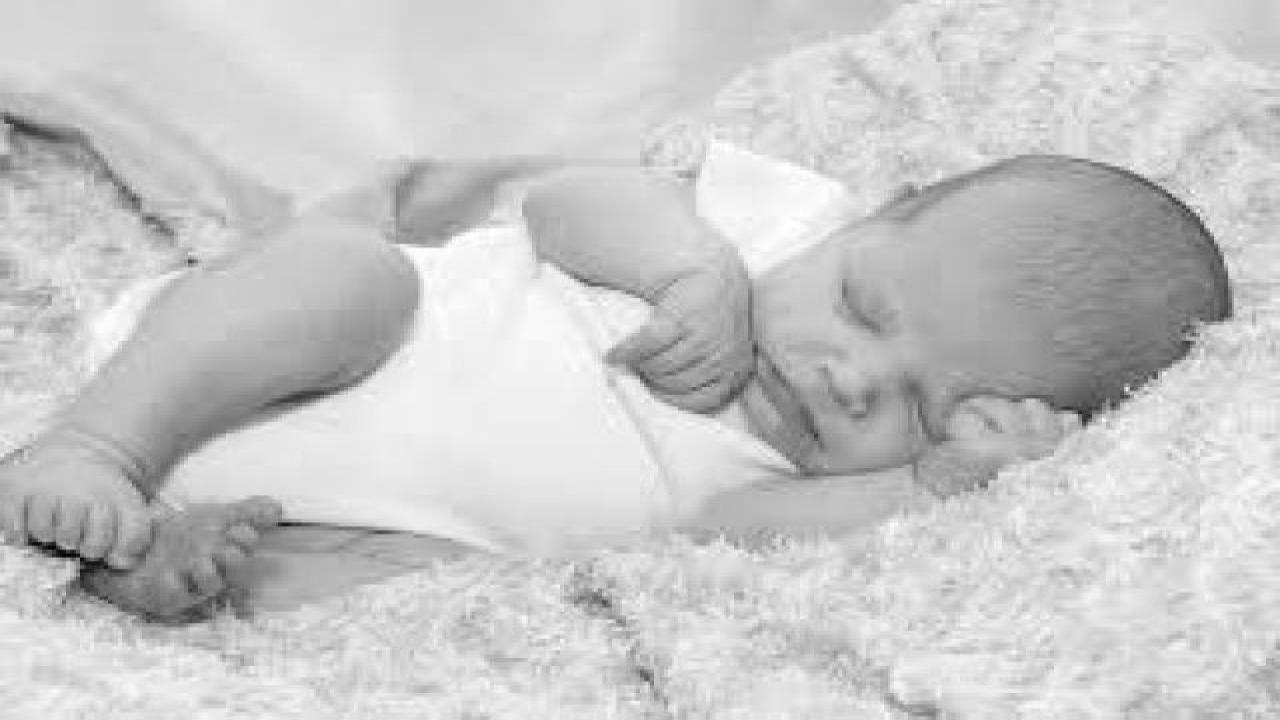hand: (603, 273, 751, 413), (940, 396, 1094, 486)
